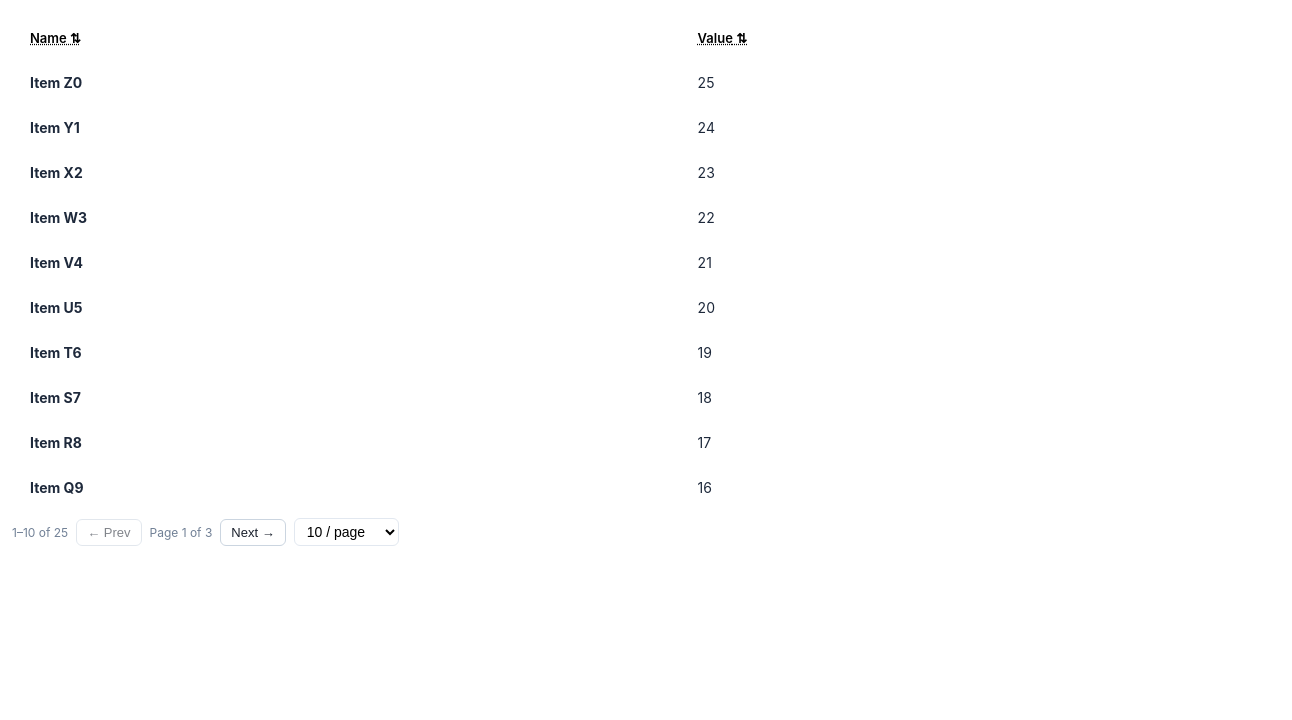
Test: DataTable client pagination (BL-2) › changing the page size widens the window
The width and height of the screenshot is (1292, 720).
Select "25 / page" in the dropdown named "Rows per page" at (346, 532), box [294,518,399,546]
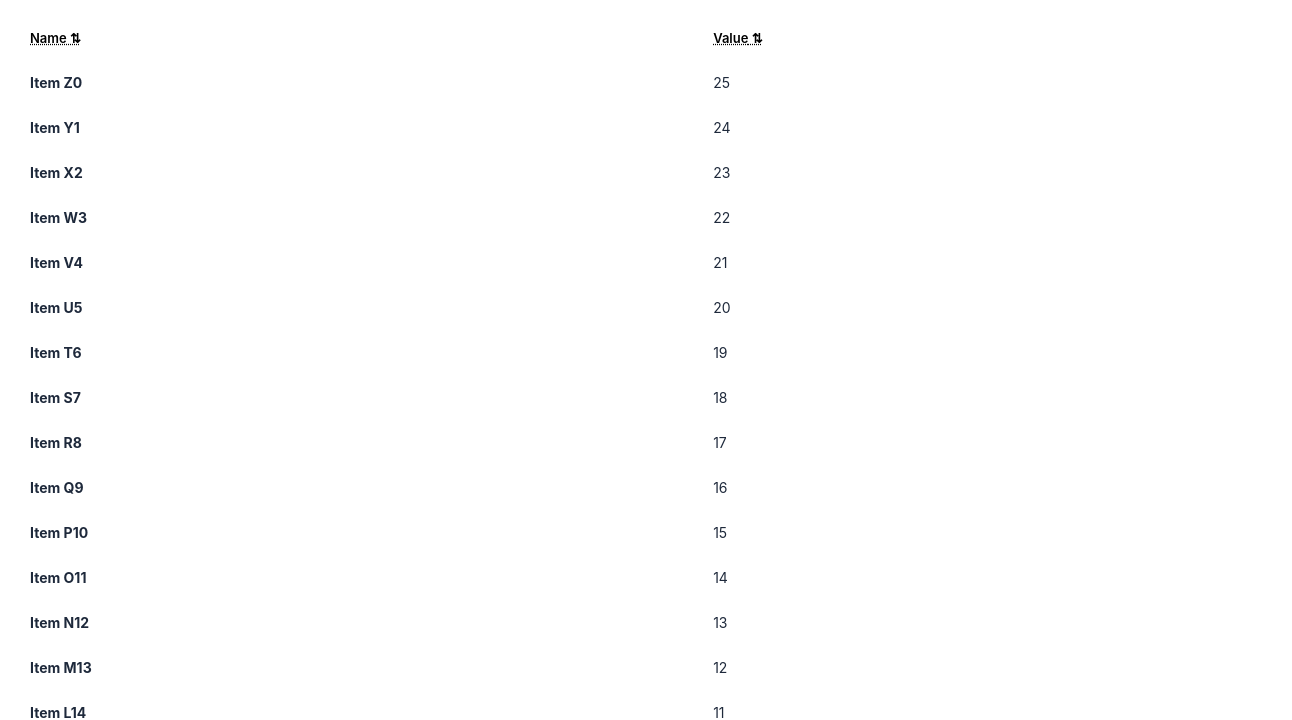
Result: the number of rows is 26
Result: the text "Page 1 of 3" is gone
